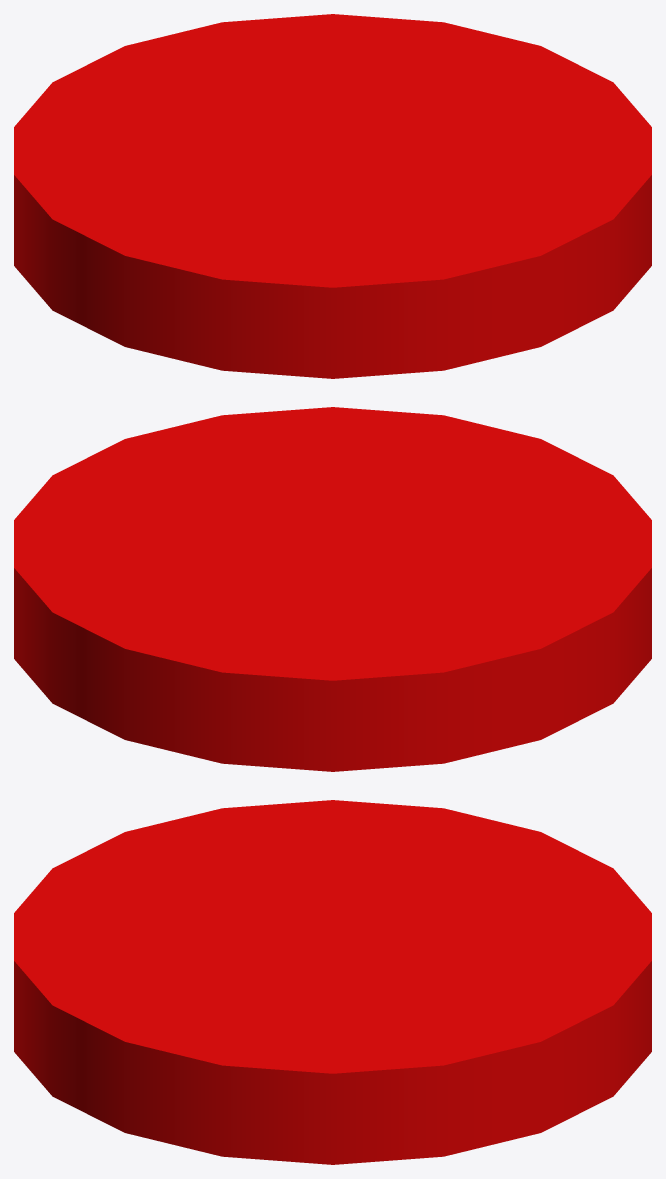
The model's file is Ob_Knop_Rond 1.FBX.
3 views of the same model, one above another, from view 1: azimuth 30°, elevation 25°; view 2: azimuth 150°, elevation 25°; view 3: azimuth 270°, elevation 25° (orthographic).
Parts seen in each view (by area): view 1: Knop round 1; view 2: Knop round 1; view 3: Knop round 1.
Part boxes in pixels (left/top/right/bottom): Knop round 1: left=14, top=14, right=651, bottom=378; Knop round 1: left=14, top=407, right=651, bottom=771; Knop round 1: left=14, top=800, right=651, bottom=1164.
Bounding box in the file's own units: 7.81 × 1.21 × 7.69.
